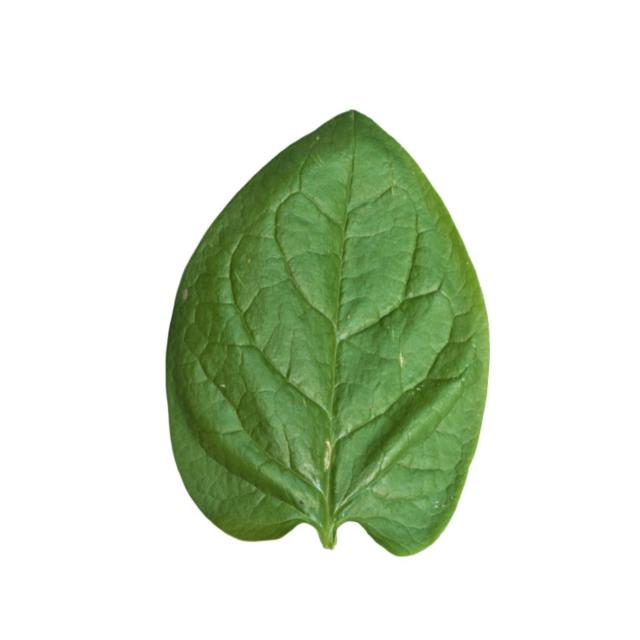Medicinal-Basale: (162, 106, 491, 558)
